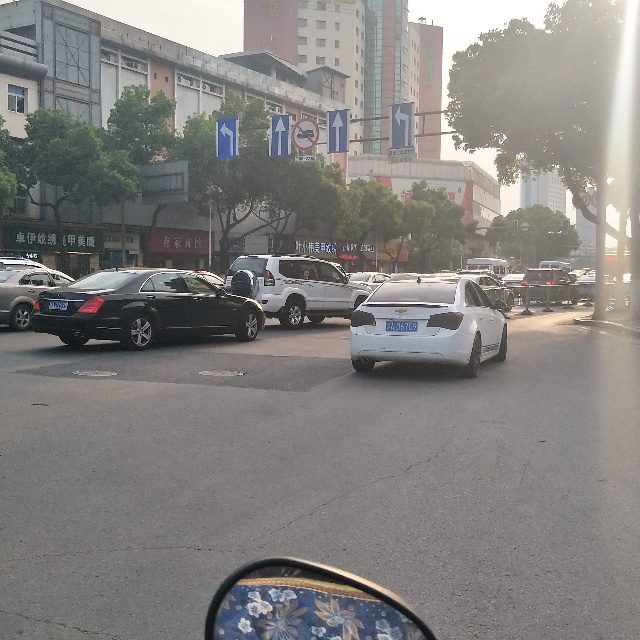left: (392, 102, 414, 147), (216, 118, 238, 157)
straight: (328, 108, 348, 154), (271, 112, 290, 155)
